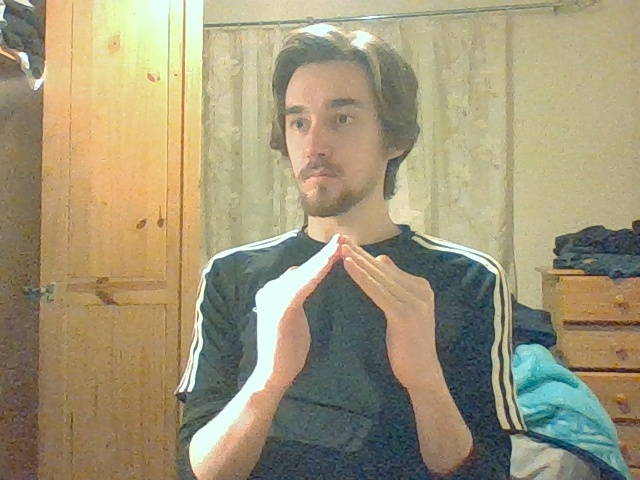home: (255, 232, 435, 334)
